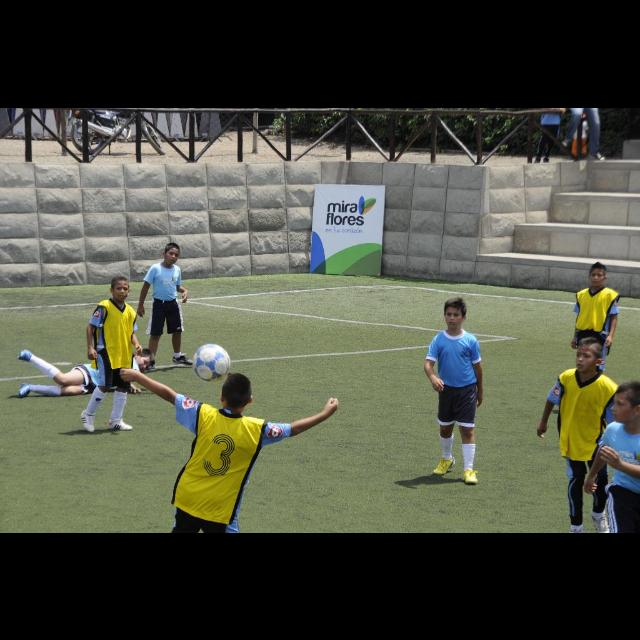Football: (190, 342, 230, 383)
